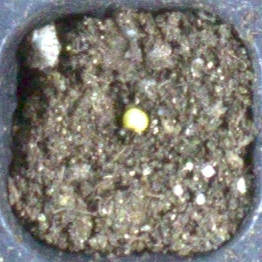pepper seed: (46, 41, 196, 174)
